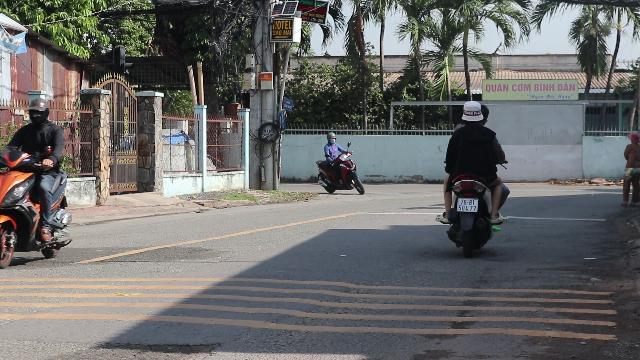helmet: (26, 97, 50, 123)
licenseplate: (457, 198, 477, 212)
motorcyclist: (0, 95, 76, 269), (435, 100, 511, 256)
nohelmet: (460, 100, 484, 124)
